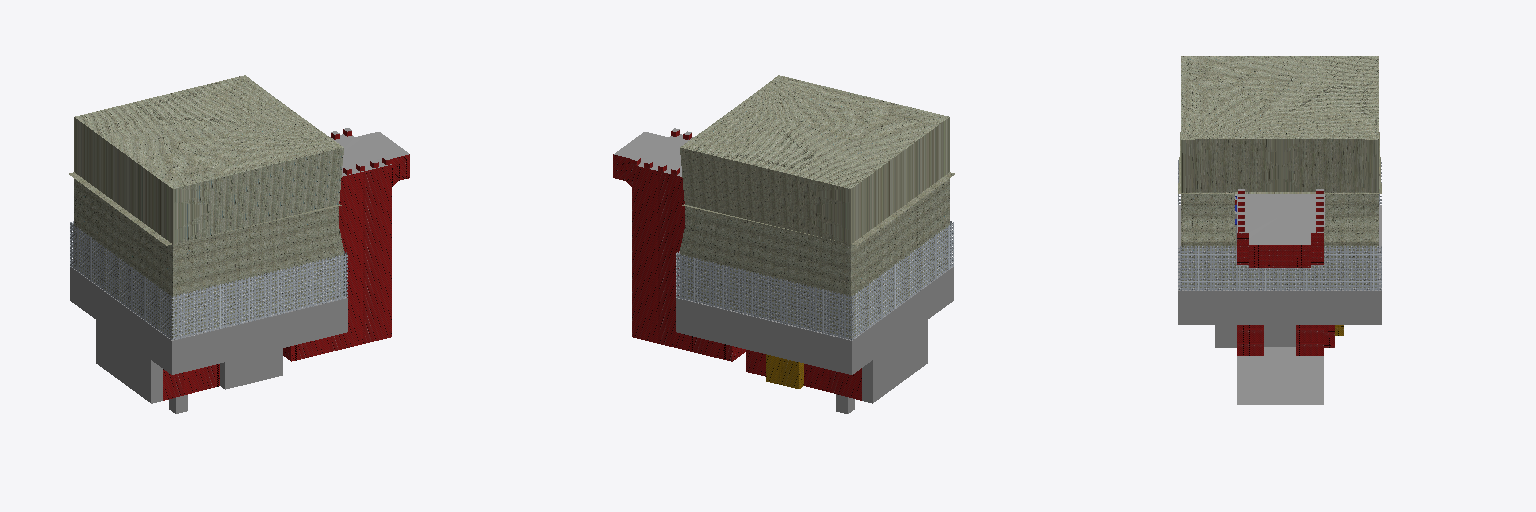
3 views of the same model, side by side, from view 1: azimuth 30°, elevation 25°; view 2: azimuth 150°, elevation 25°; view 3: azimuth 270°, elevation 25° (orthographic).
Visible parts, largest first — view 1: Plane; view 2: Plane; view 3: Plane.
Part boxes in pixels (bbox=[...]): Plane: bbox=[69, 75, 409, 413]; Plane: bbox=[613, 75, 954, 413]; Plane: bbox=[1178, 56, 1381, 404].
Size of the model in its own units: 50.36 by 46.88 by 32.
Materials: 12 (5 with a texture image).